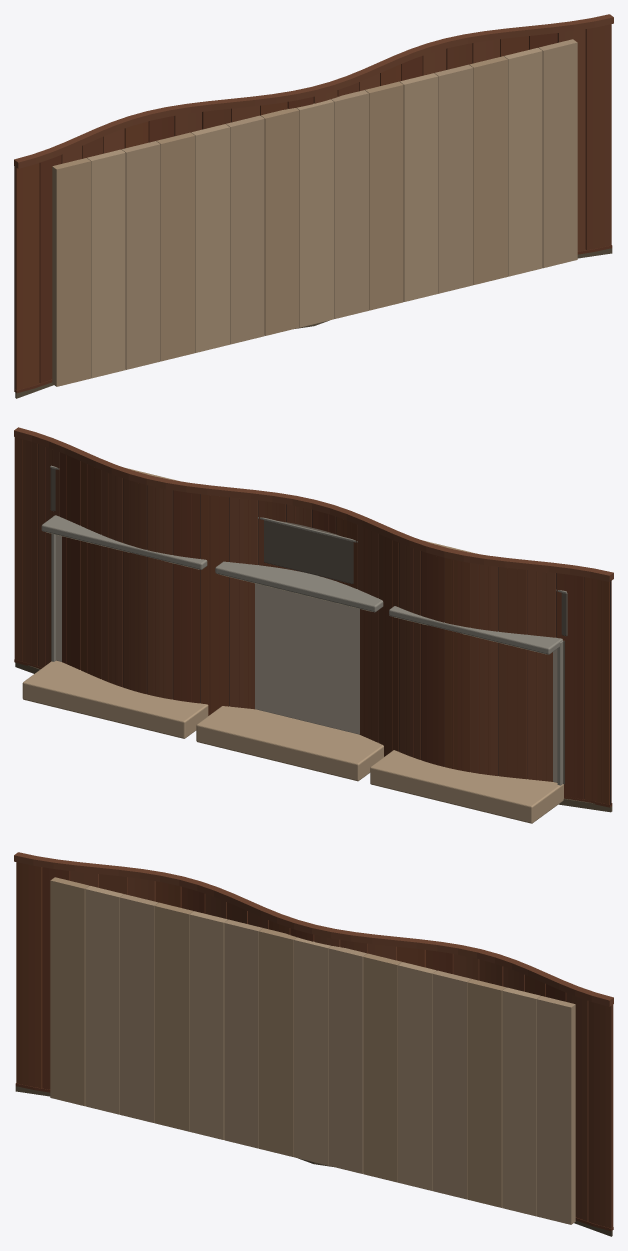
File: shinsegae-walls.glb
The picture shows the model from 3 angles, top to bottom: view 1: azimuth 30°, elevation 25°; view 2: azimuth 150°, elevation 25°; view 3: azimuth 330°, elevation 25°; orthographic projection.
Visible parts, largest first — view 1: CaseGallery, RectoWall; view 2: RectoWall, CaseGallery; view 3: CaseGallery, RectoWall.
Boxes of the visible parts, x1,y1,x2,y2 form: CaseGallery: (52, 39, 577, 386); RectoWall: (14, 14, 613, 398); RectoWall: (14, 427, 613, 812); CaseGallery: (22, 465, 567, 823); CaseGallery: (50, 877, 575, 1224); RectoWall: (14, 852, 613, 1236).
Size of the model in its own units: 8.01 by 3.05 by 0.928.
